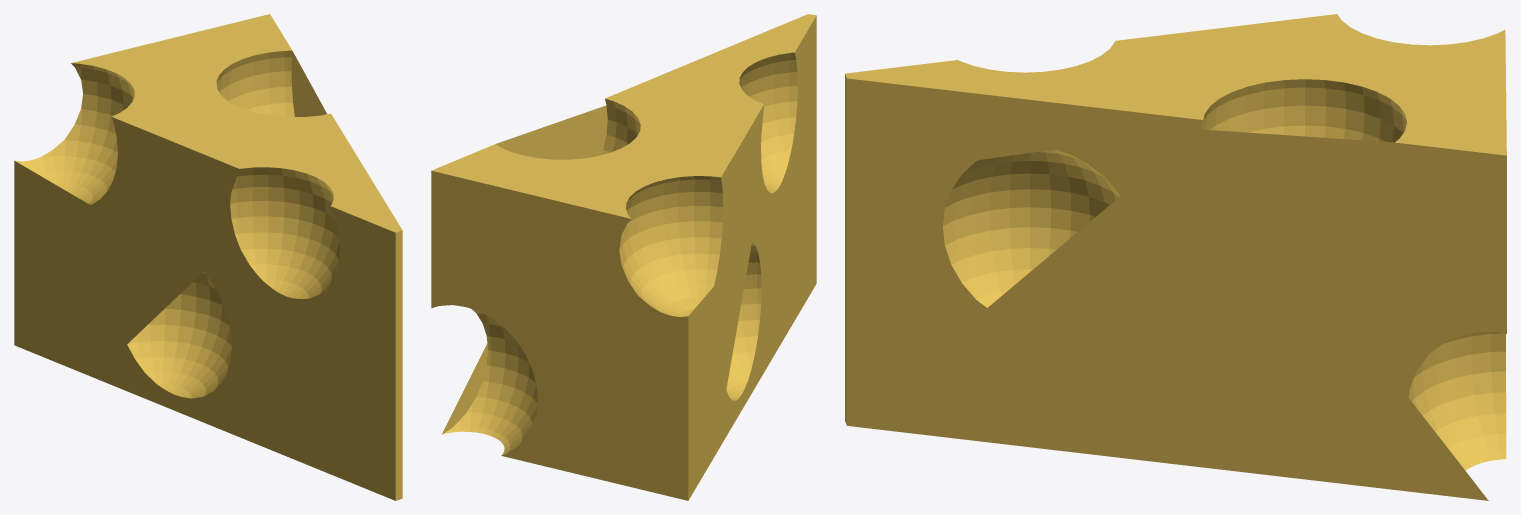
Rendered from queijo.fbx.
The picture shows the model from 3 angles, left to right: view 1: azimuth 30°, elevation 25°; view 2: azimuth 150°, elevation 25°; view 3: azimuth 270°, elevation 25°; orthographic projection. The views are drawn at different scales.
Parts seen in each view (by area): view 1: Cube; view 2: Cube; view 3: Cube.
Part boxes in pixels (<box>): Cube: <box>14,14,402,500</box>; Cube: <box>431,14,816,500</box>; Cube: <box>845,14,1506,500</box>.
Size of the model in its own units: 200 by 200 by 345.
